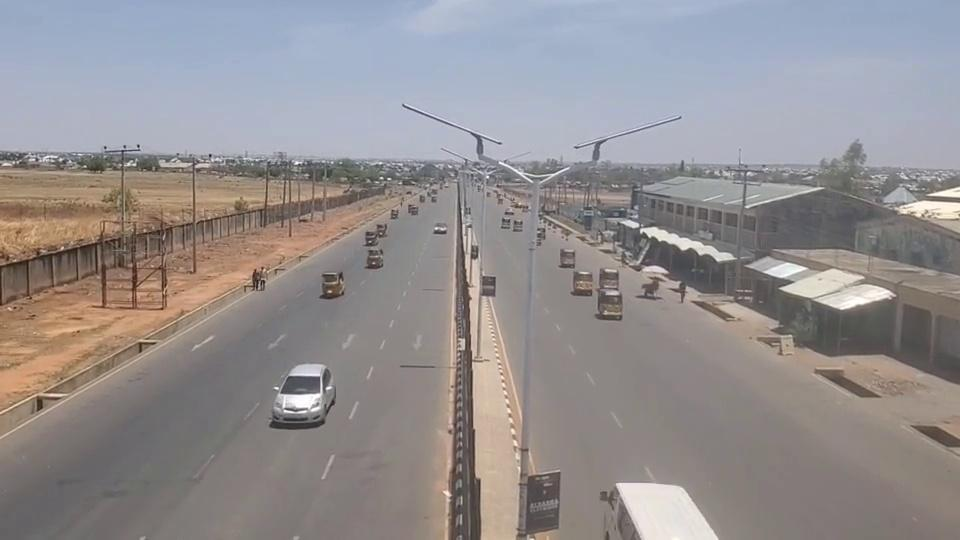bus: (607, 483, 722, 540)
car: (272, 362, 336, 423)
keke: (597, 288, 623, 319), (320, 270, 345, 297), (572, 269, 593, 295), (599, 267, 619, 290), (366, 248, 384, 268), (559, 248, 576, 268), (365, 230, 378, 245)
